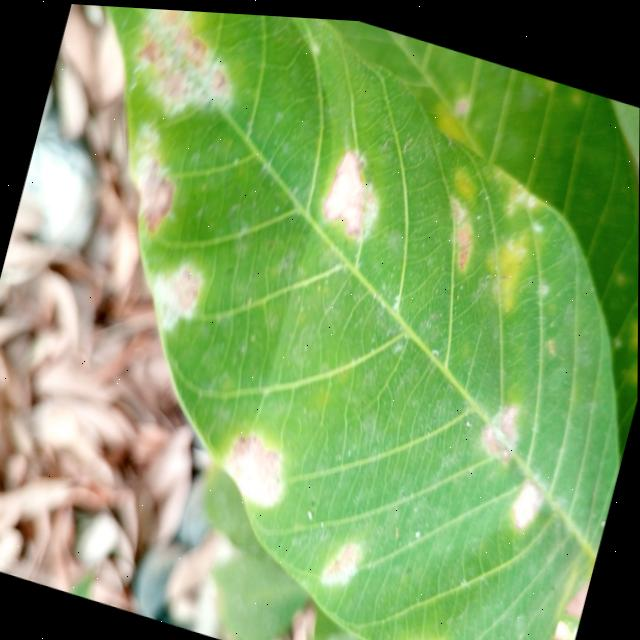Leaf-Blight: (215, 423, 296, 509), (318, 142, 377, 233), (508, 470, 545, 526)
